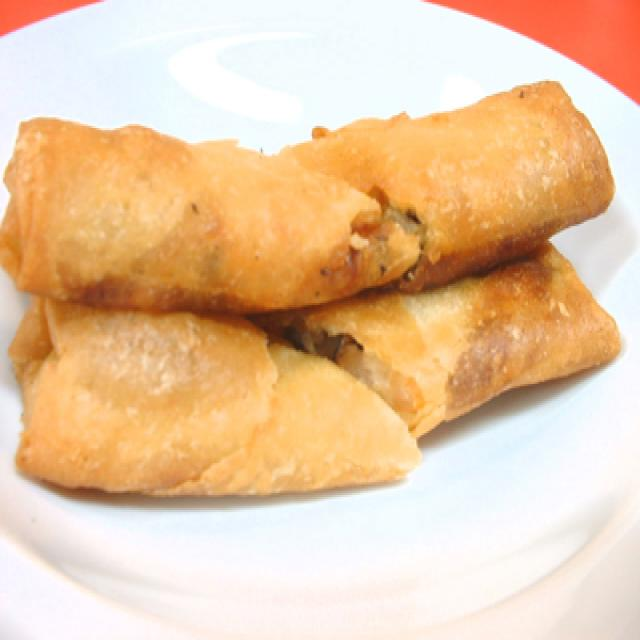鸡蛋料理: (0, 70, 640, 506)
